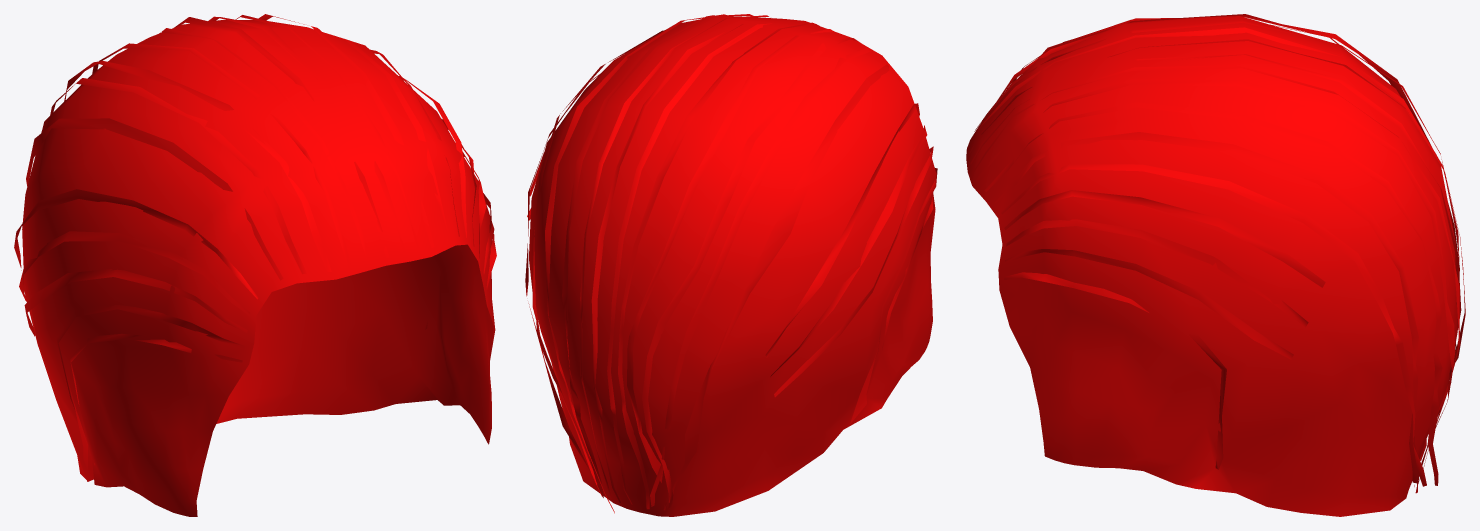
Rendered from short04_M.glb.
3 renders of one model, left to right at view 1: azimuth 30°, elevation 25°; view 2: azimuth 150°, elevation 25°; view 3: azimuth 270°, elevation 25°, orthographic. The views are drawn at different scales.
Size of the model in its own units: 0.1713 by 0.2008 by 0.2028.
Materials: 1 (1 with a texture image).
